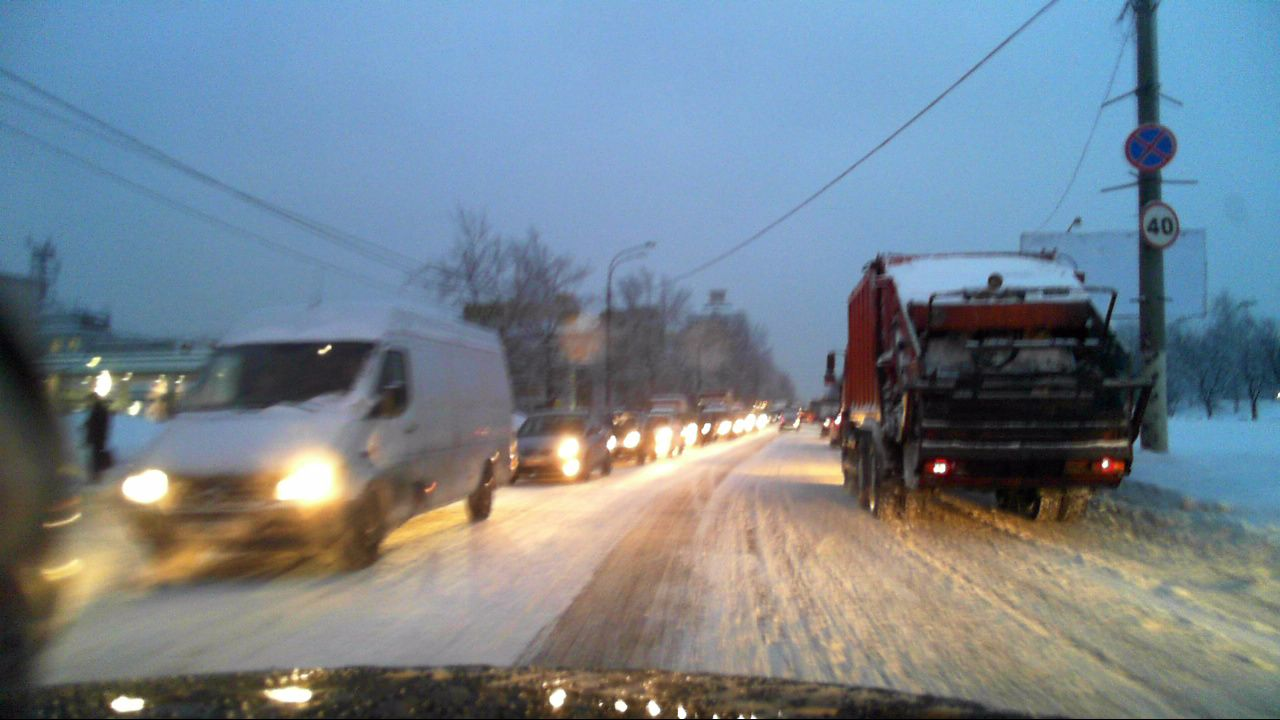No Parking: (1123, 121, 1178, 172)
speed_warning_40: (1138, 198, 1181, 249)
